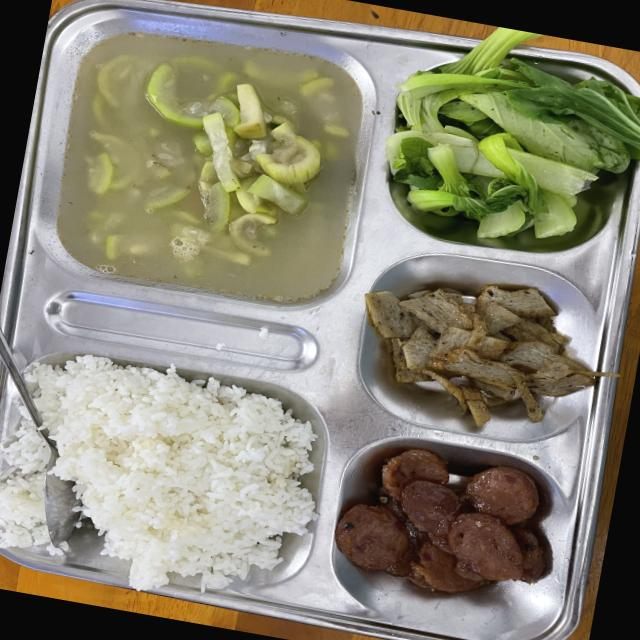com: (0, 354, 316, 592)
kho qua: (35, 16, 372, 302)
rau: (385, 27, 640, 238)
